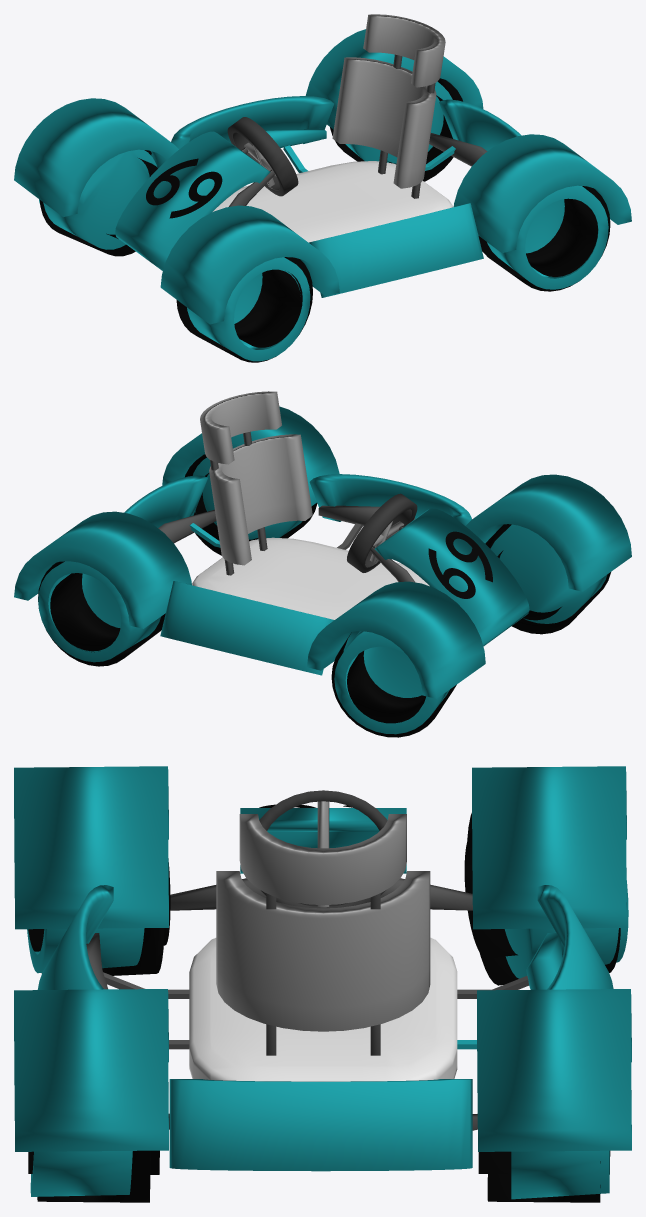
The model's file is kart2.fbx.
The picture shows the model from 3 angles, top to bottom: view 1: azimuth 30°, elevation 25°; view 2: azimuth 150°, elevation 25°; view 3: azimuth 270°, elevation 25°; orthographic projection. The views are drawn at different scales.
Parts seen in each view (by area): view 1: Cubo, Mbola, Texto; view 2: Cubo, Mbola, Texto; view 3: Cubo, Mbola.
Boxes of the visible parts, left/top/right/bottom form: Cubo: left=14, top=14, right=631, bottom=362; Mbola: left=213, top=161, right=453, bottom=242; Texto: left=146, top=158, right=222, bottom=218; Cubo: left=14, top=391, right=631, bottom=737; Mbola: left=192, top=537, right=429, bottom=619; Texto: left=428, top=531, right=492, bottom=598; Cubo: left=14, top=766, right=631, bottom=1202; Mbola: left=189, top=937, right=457, bottom=1081.
Size of the model in its own units: 511 by 240 by 414.
